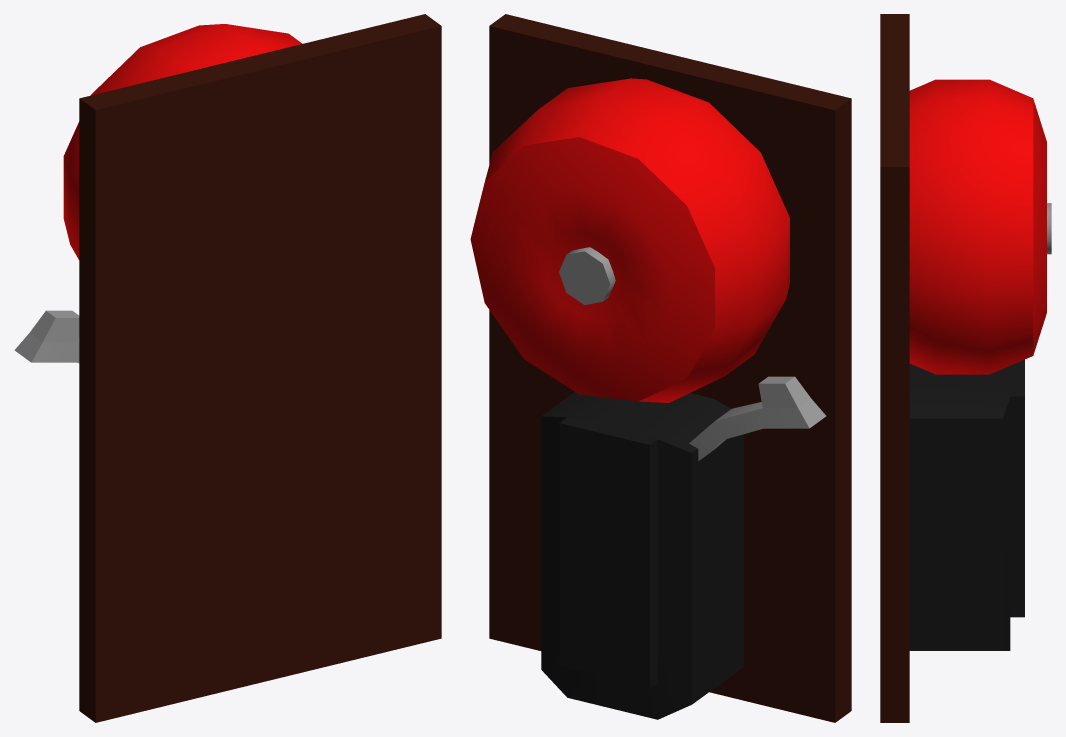
The model's file is fire alarm.FBX.
3 renders of one model, left to right at view 1: azimuth 30°, elevation 25°; view 2: azimuth 150°, elevation 25°; view 3: azimuth 270°, elevation 25°, orthographic. The views are drawn at different scales.
Visible parts, largest first — view 1: Box003, Cylinder001, Box002; view 2: Box003, Cylinder001, Box001, Box002, Cylinder002; view 3: Cylinder001, Box001, Box003.
Boxes of the visible parts, x1=… form: Box003: x1=79, y1=14, x2=441, y2=722; Cylinder001: x1=63, y1=24, x2=302, y2=259; Box002: x1=14, y1=310, x2=79, y2=363; Box003: x1=489, y1=14, x2=851, y2=722; Cylinder001: x1=470, y1=78, x2=789, y2=402; Box001: x1=541, y1=392, x2=743, y2=719; Box002: x1=689, y1=376, x2=826, y2=460; Cylinder002: x1=559, y1=247, x2=615, y2=304; Cylinder001: x1=909, y1=79, x2=1046, y2=374; Box001: x1=909, y1=359, x2=1024, y2=650; Box003: x1=880, y1=14, x2=909, y2=722.
Bounding box in the file's own units: 116 × 186 × 52.01.
